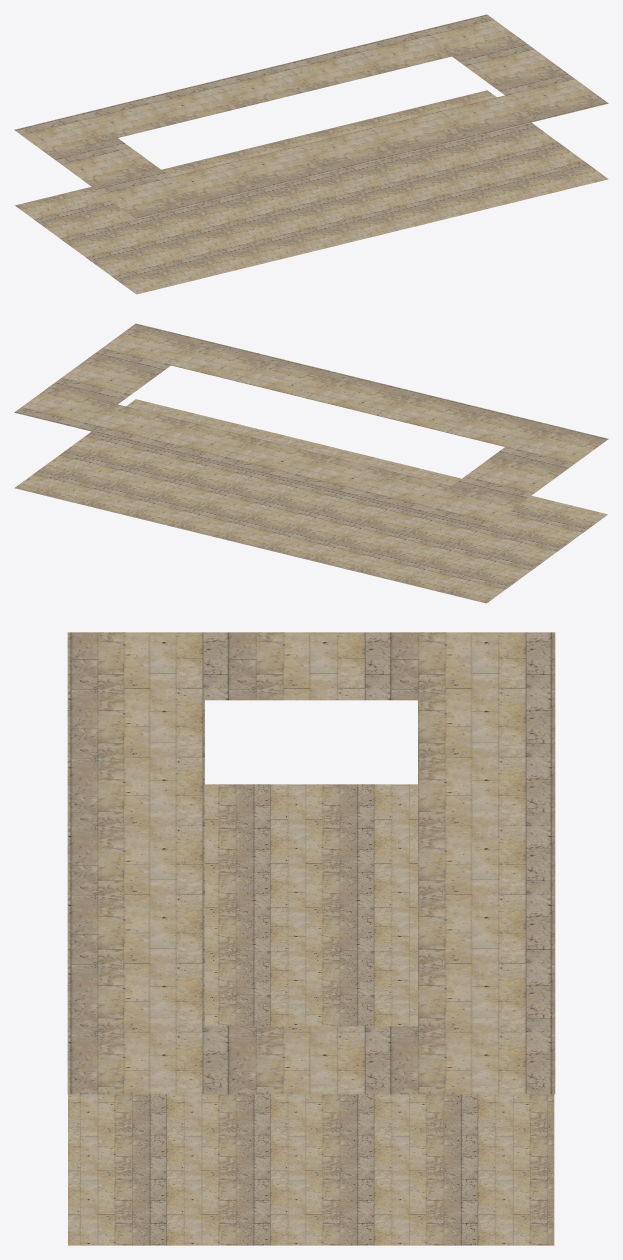
Rendered from sponza_17.glb.
3 views of the same model, one above another, from view 1: azimuth 30°, elevation 25°; view 2: azimuth 150°, elevation 25°; view 3: azimuth 270°, elevation 25° (orthographic). The views are drawn at different scales.
Size of the model in its own units: 27.34 by 4.18 by 12.2.
1 material, 1 textured.
